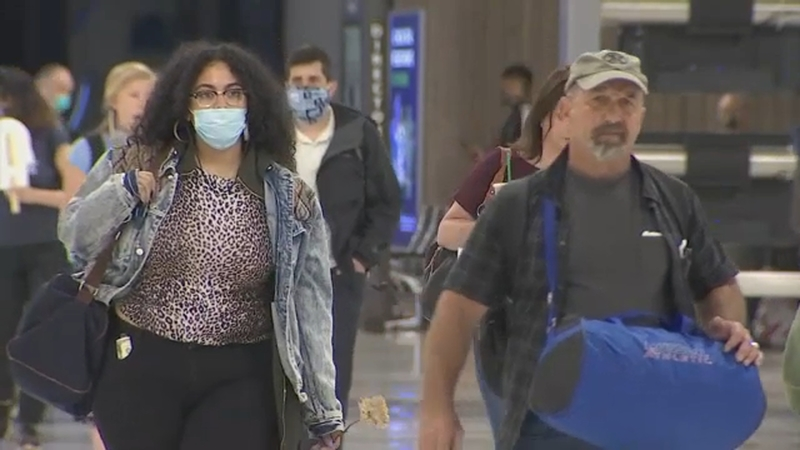with_incorrect_mask: (174, 64, 258, 157)
with_mask: (290, 66, 333, 126)
without_mask: (579, 72, 640, 157)
